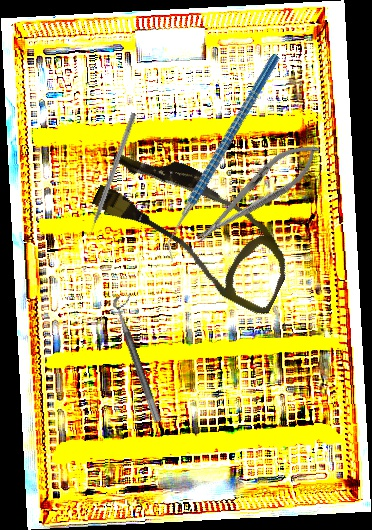Cannula: (79, 134, 312, 319)
Chopper: (111, 53, 335, 263)
Fixation Ring: (110, 292, 173, 424)
Hook Surgical: (83, 111, 138, 244)
Needle Holder: (186, 131, 329, 254)
